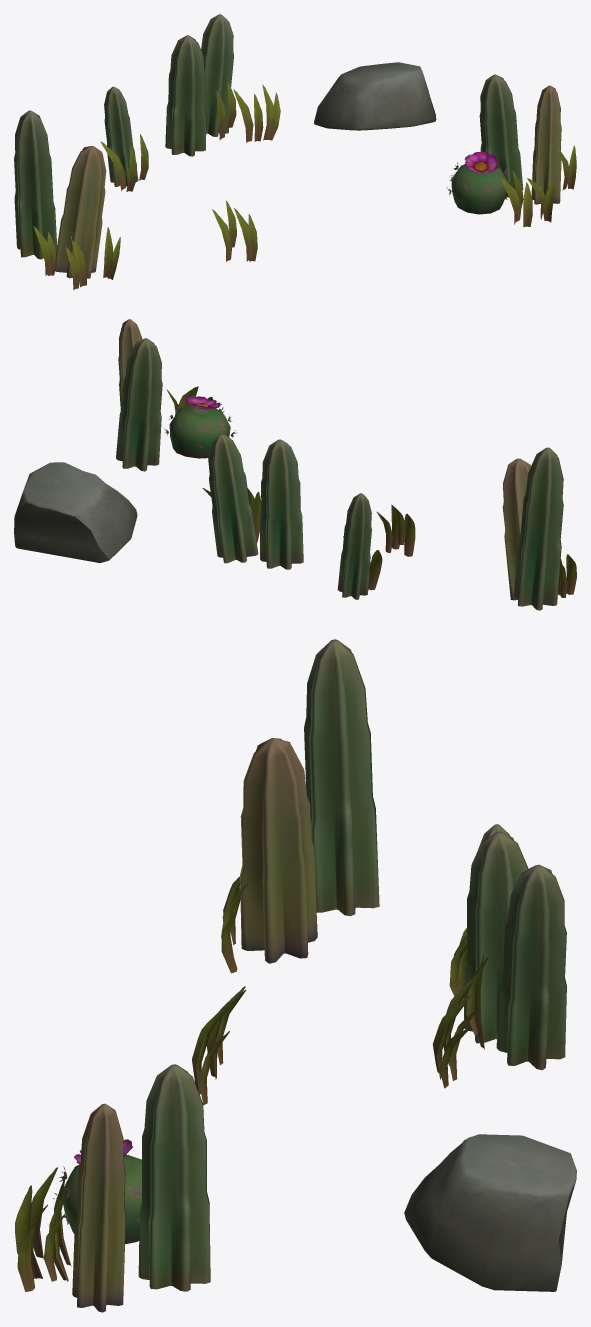
The model's file is cacti.glb.
3 renders of one model, top to bottom at view 1: azimuth 30°, elevation 25°; view 2: azimuth 150°, elevation 25°; view 3: azimuth 270°, elevation 25°, orthographic. The views are drawn at different scales.
Size of the model in its own units: 31.03 by 10.38 by 17.59.
Materials: 2 (2 with a texture image).
